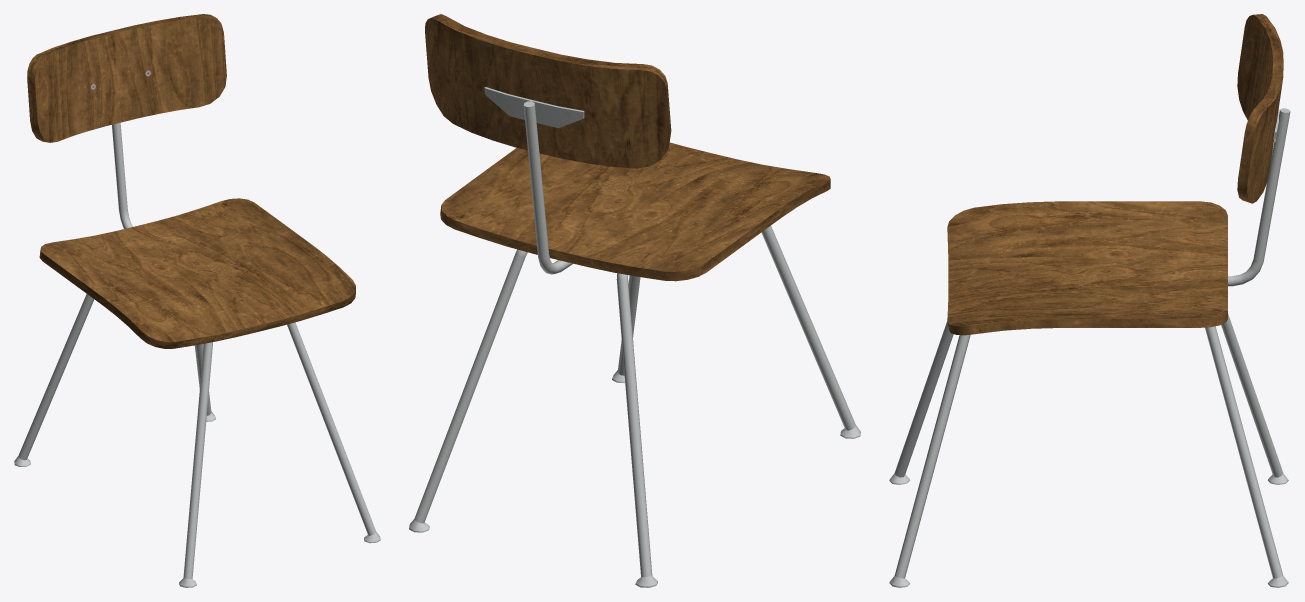
File: chair.fbx
3 renders of one model, left to right at view 1: azimuth 30°, elevation 25°; view 2: azimuth 150°, elevation 25°; view 3: azimuth 270°, elevation 25°, orthographic. The views are drawn at different scales.
Parts seen in each view (by area): view 1: P_chair; view 2: P_chair; view 3: P_chair.
Boxes of the visible parts, x1,y1,x2,y2 form: P_chair: [14, 14, 380, 587]; P_chair: [409, 14, 860, 587]; P_chair: [889, 14, 1290, 587].
Bounding box in the file's own units: 26.07 × 48.2 × 37.23.
